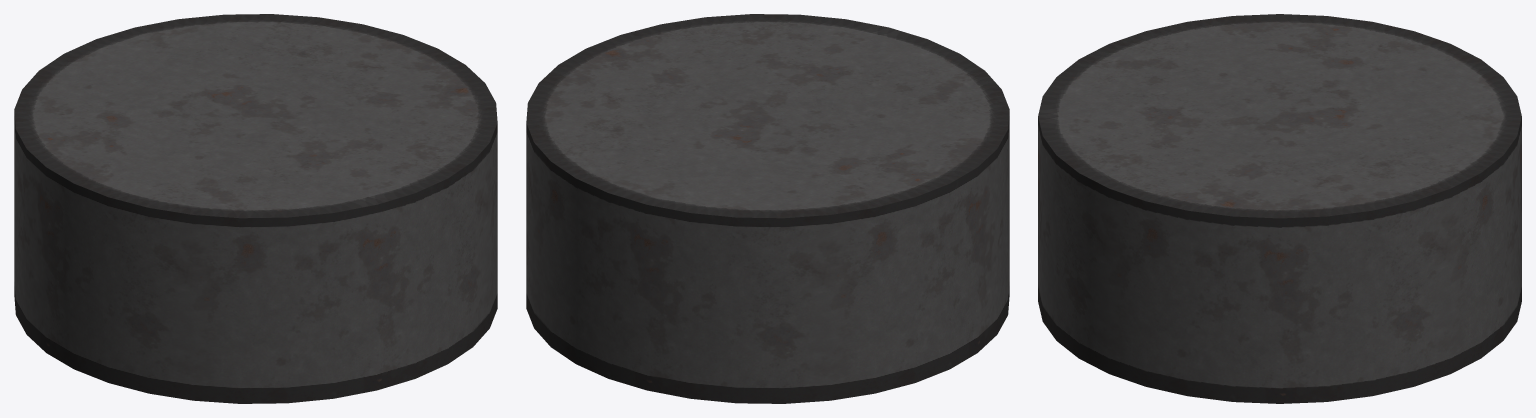
Rendered from barbette_l_2.fbx.
3 renders of one model, left to right at view 1: azimuth 30°, elevation 25°; view 2: azimuth 150°, elevation 25°; view 3: azimuth 270°, elevation 25°, orthographic.
Visible parts, largest first — view 1: barbette_l_2; view 2: barbette_l_2; view 3: barbette_l_2.
Boxes of the visible parts, bbox=[...] form: barbette_l_2: bbox=[14, 14, 497, 403]; barbette_l_2: bbox=[526, 14, 1009, 403]; barbette_l_2: bbox=[1038, 14, 1521, 403].
Bounding box in the file's own units: 7.8 × 3.3 × 7.8.
